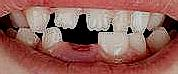Hypodontia: (59, 31, 99, 52)
